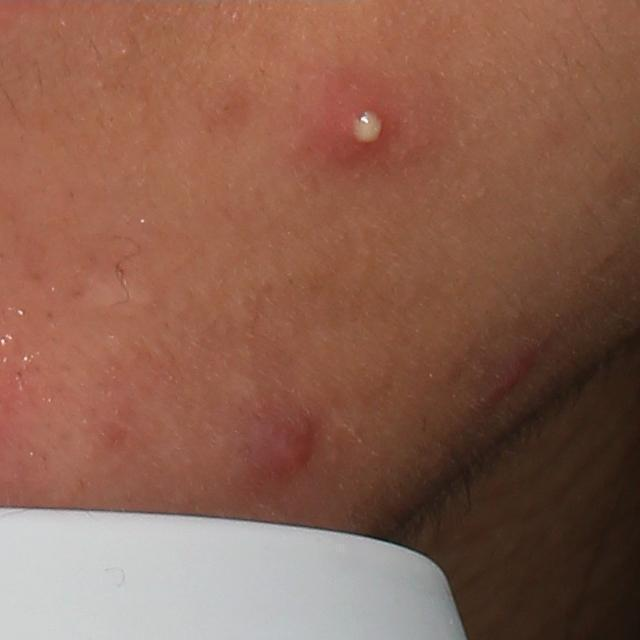hypertrophic_scar: (83, 267, 153, 314)
papule: (260, 405, 319, 475), (487, 352, 540, 402)
pustule: (335, 78, 398, 163)
